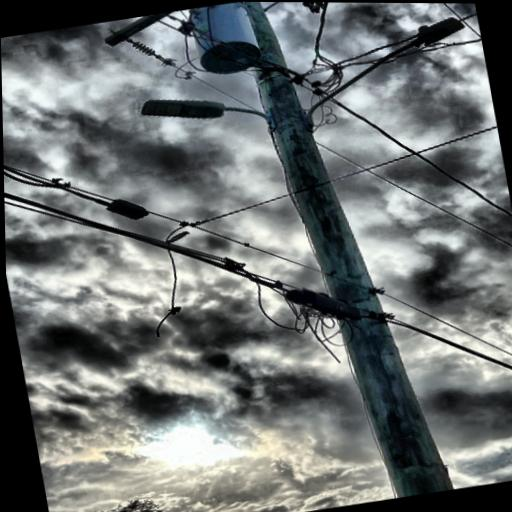pole: (222, 2, 482, 510)
street light: (282, 10, 484, 136), (131, 74, 284, 163)
transformer: (177, 1, 267, 82)
